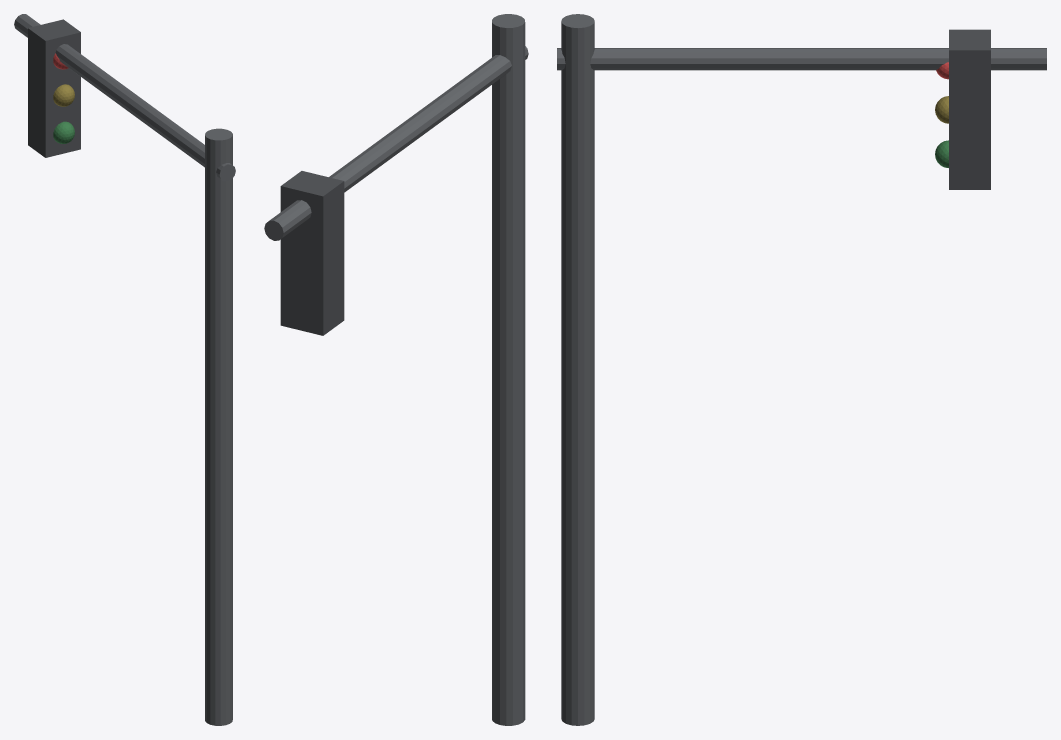
File: prop_traffic_light.glb
3 views of the same model, side by side, from view 1: azimuth 30°, elevation 25°; view 2: azimuth 150°, elevation 25°; view 3: azimuth 270°, elevation 25° (orthographic). The views are drawn at different scales.
Visible parts, largest first — view 1: world; view 2: world; view 3: world.
Boxes of the visible parts, <box> form: world: <box>14,14,235,725</box>; world: <box>264,14,528,725</box>; world: <box>557,14,1046,725</box>.
Bounding box in the file's own units: 0.35 × 5.5 × 3.5.
